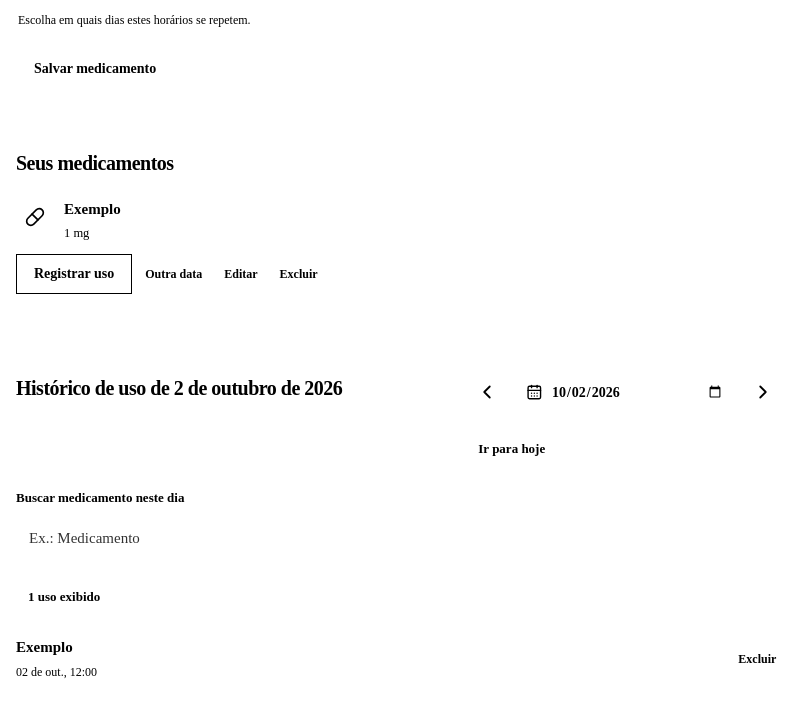
Test: limpeza experimental da busca vazia de medicamentos › mantém o controle sem ação no estado vazio
(page scrolled)
Type "outro" into the search field labelled "Buscar medicamento neste dia". click: x=401, y=539
box: x1=16 y1=515 x2=785 y2=563
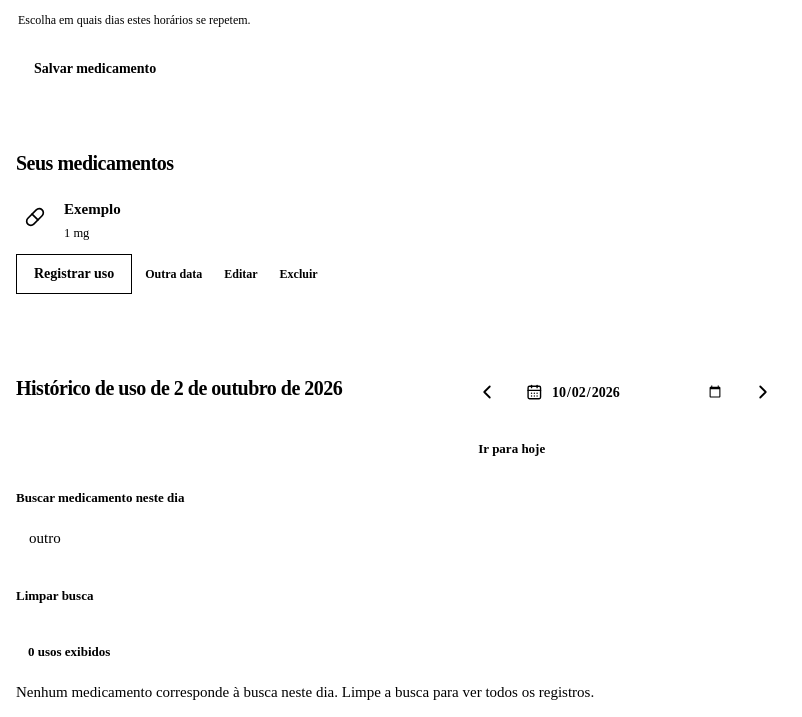
Expected: the text "Nenhum medicamento corresponde à busca" is shown, x1=16 y1=684 x2=594 y2=700
Expected: the button "Limpar busca" is shown, x1=16 y1=574 x2=785 y2=618
